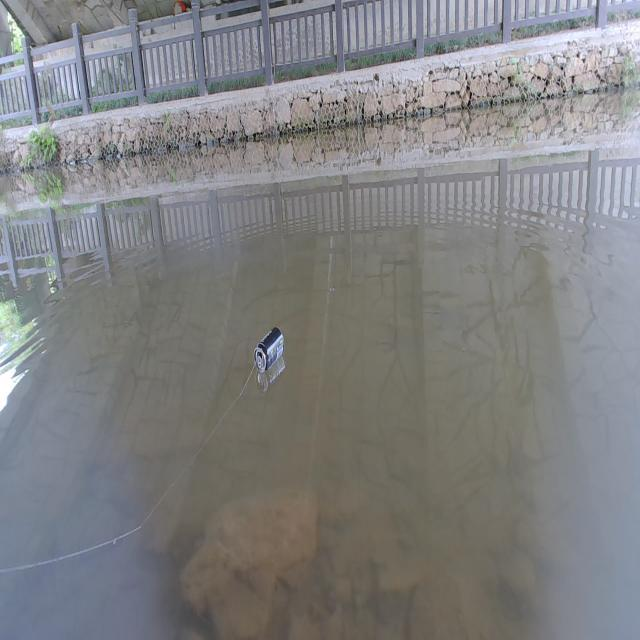garbage: (253, 325, 285, 373)
